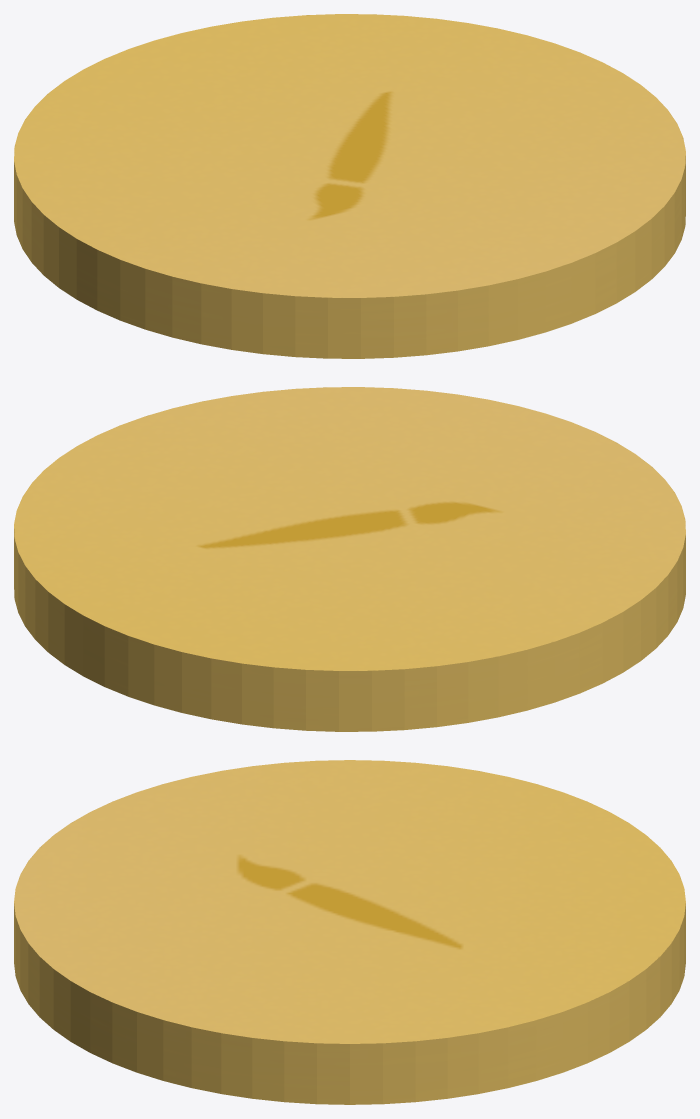
File: Step.fbx
3 views of the same model, one above another, from view 1: azimuth 30°, elevation 25°; view 2: azimuth 150°, elevation 25°; view 3: azimuth 270°, elevation 25° (orthographic).
Visible parts, largest first — view 1: Cylinder; view 2: Cylinder; view 3: Cylinder.
Part boxes in pixels (x1,y1,x2,y2): Cylinder: (14, 14, 685, 358); Cylinder: (14, 387, 685, 731); Cylinder: (14, 760, 685, 1104).
Bounding box in the file's own units: 200 × 20 × 200.
